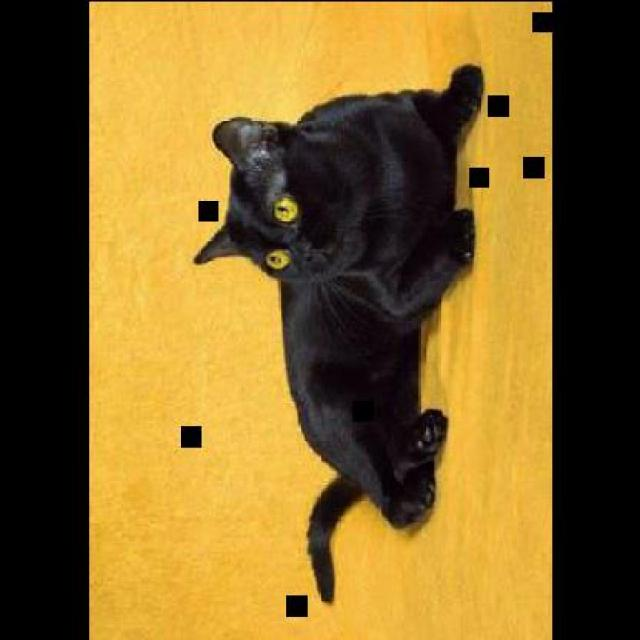unauthorized: (192, 62, 485, 603)
